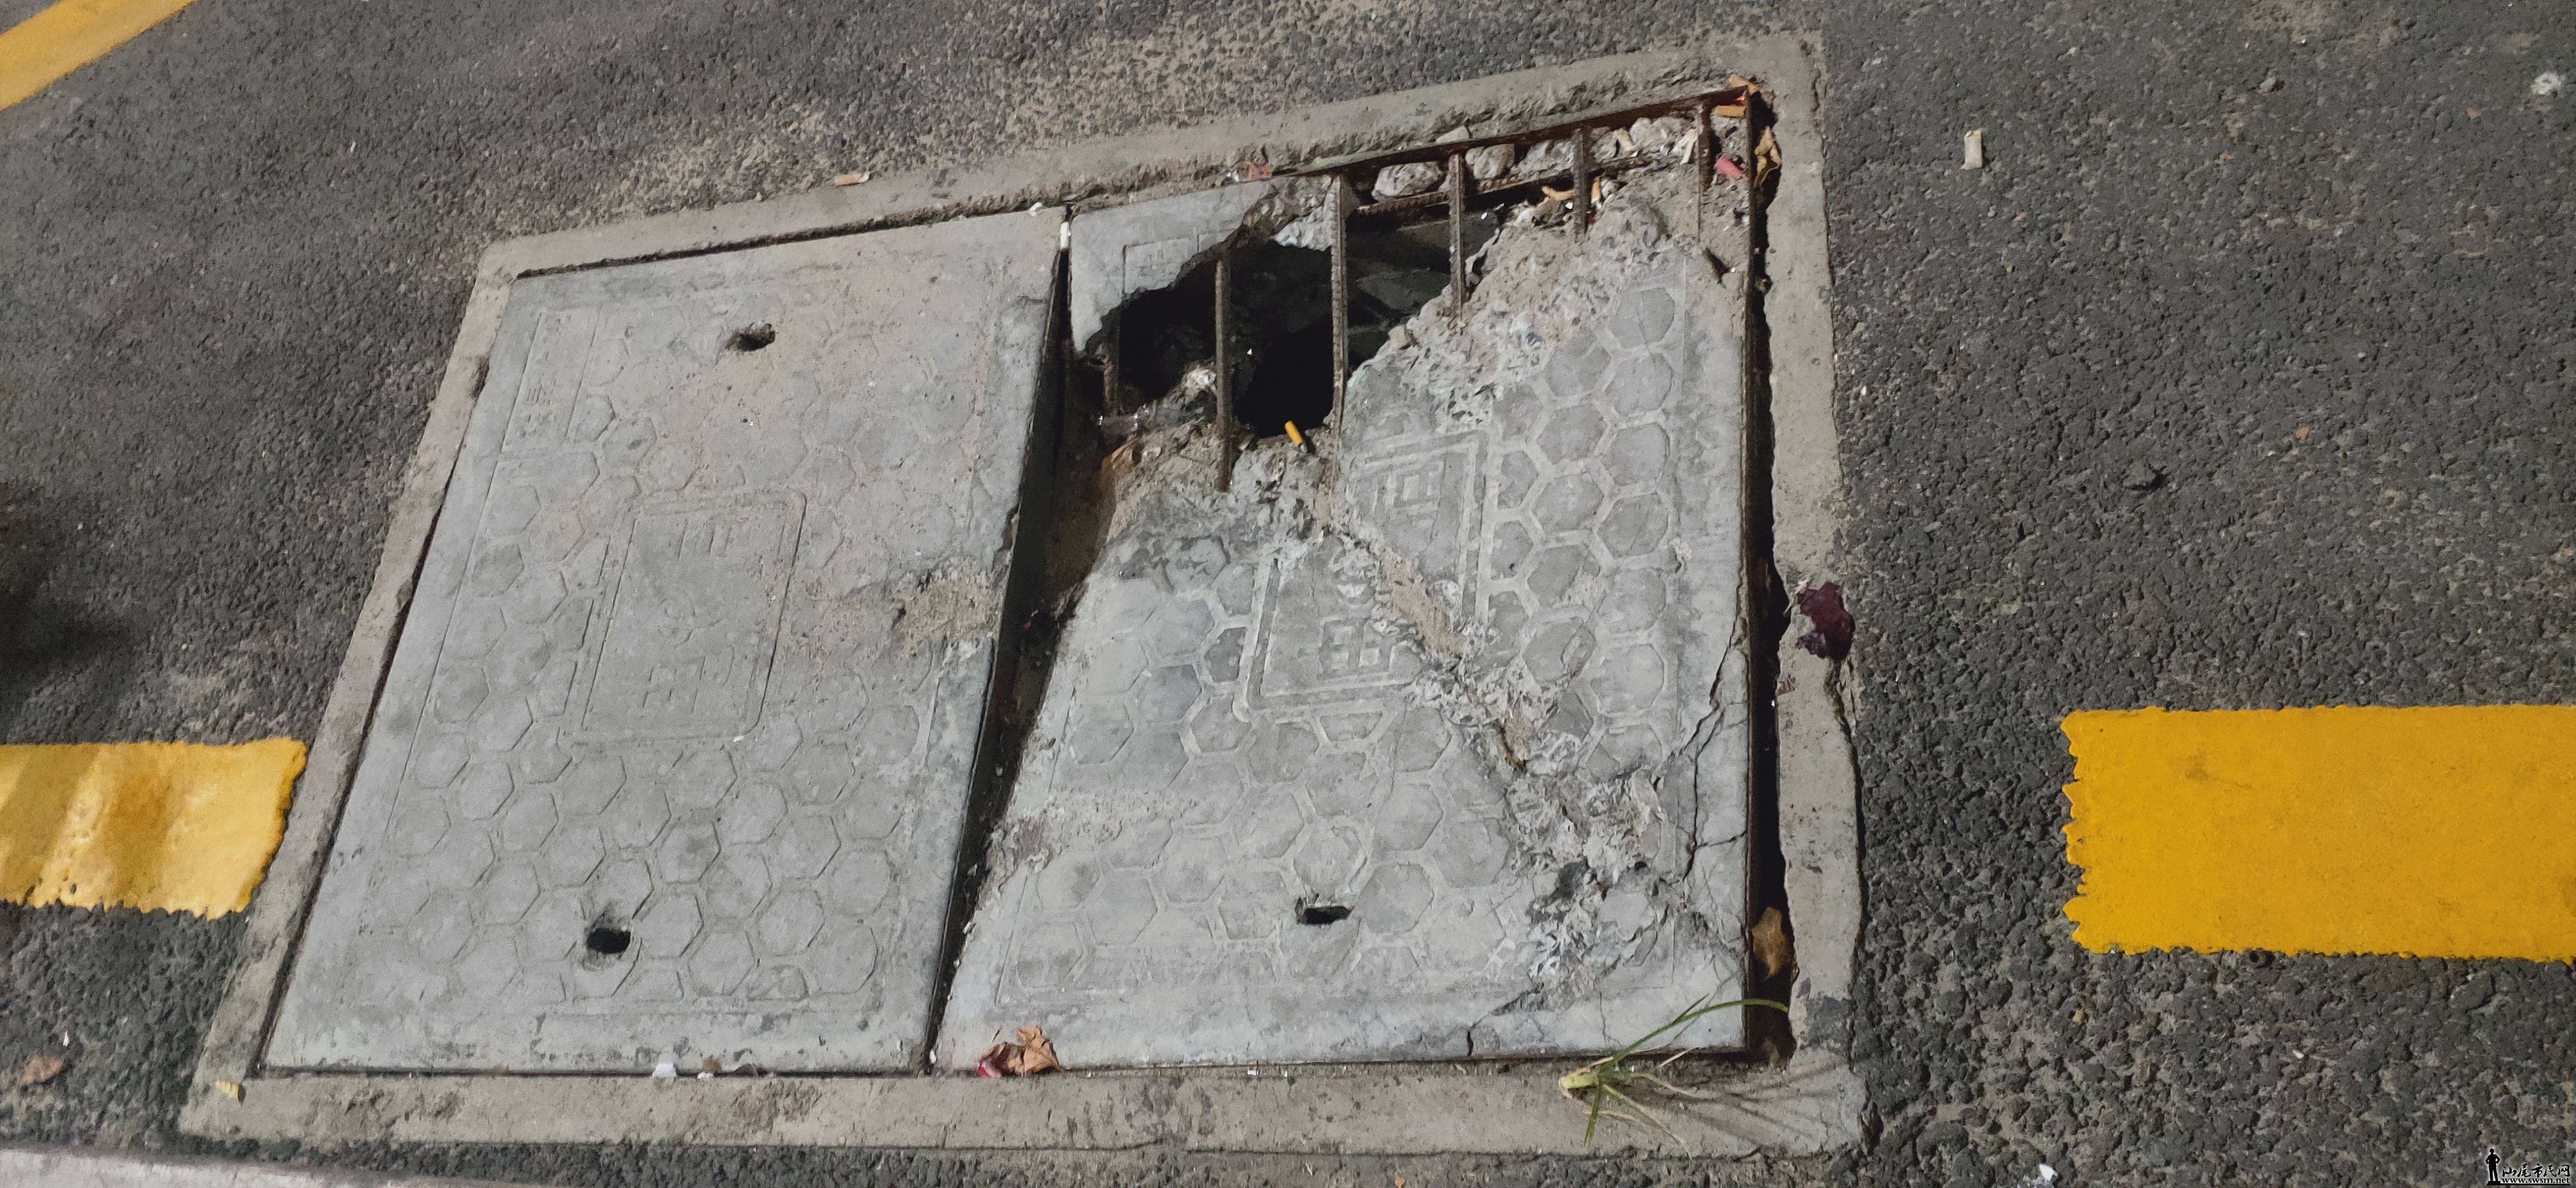broke: (169, 31, 1873, 1155)
